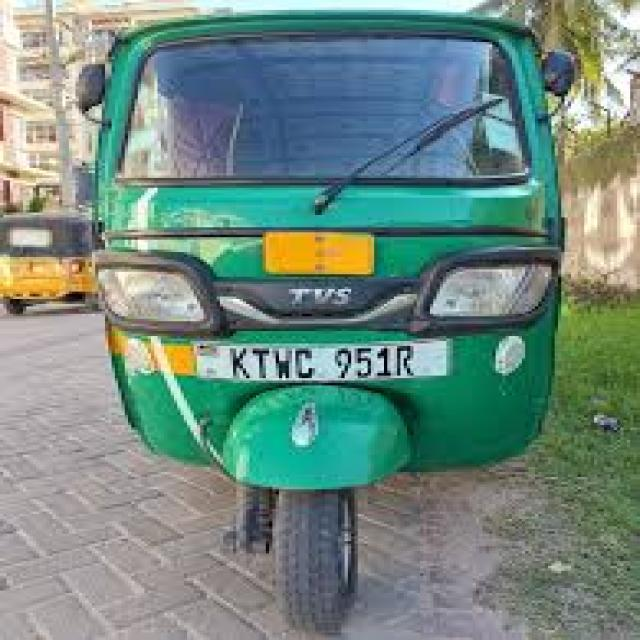tuktuk: (52, 0, 598, 640)
